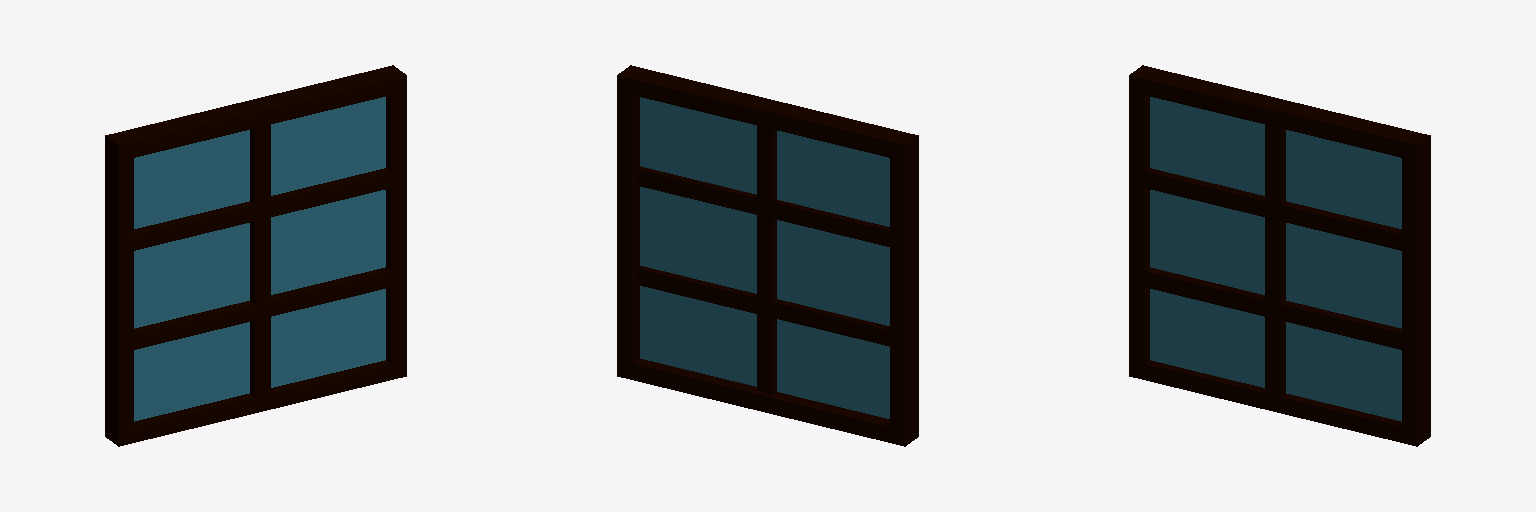
File: Window02.obj
3 renders of one model, left to right at view 1: azimuth 30°, elevation 25°; view 2: azimuth 150°, elevation 25°; view 3: azimuth 330°, elevation 25°, orthographic.
Visible parts, largest first — view 1: Window02; view 2: Window02; view 3: Window02.
Part boxes in pixels (x1,y1,x2,y2): Window02: (105, 65, 406, 446); Window02: (617, 65, 918, 446); Window02: (1129, 65, 1430, 446).
Size of the model in its own units: 37 by 37 by 3.